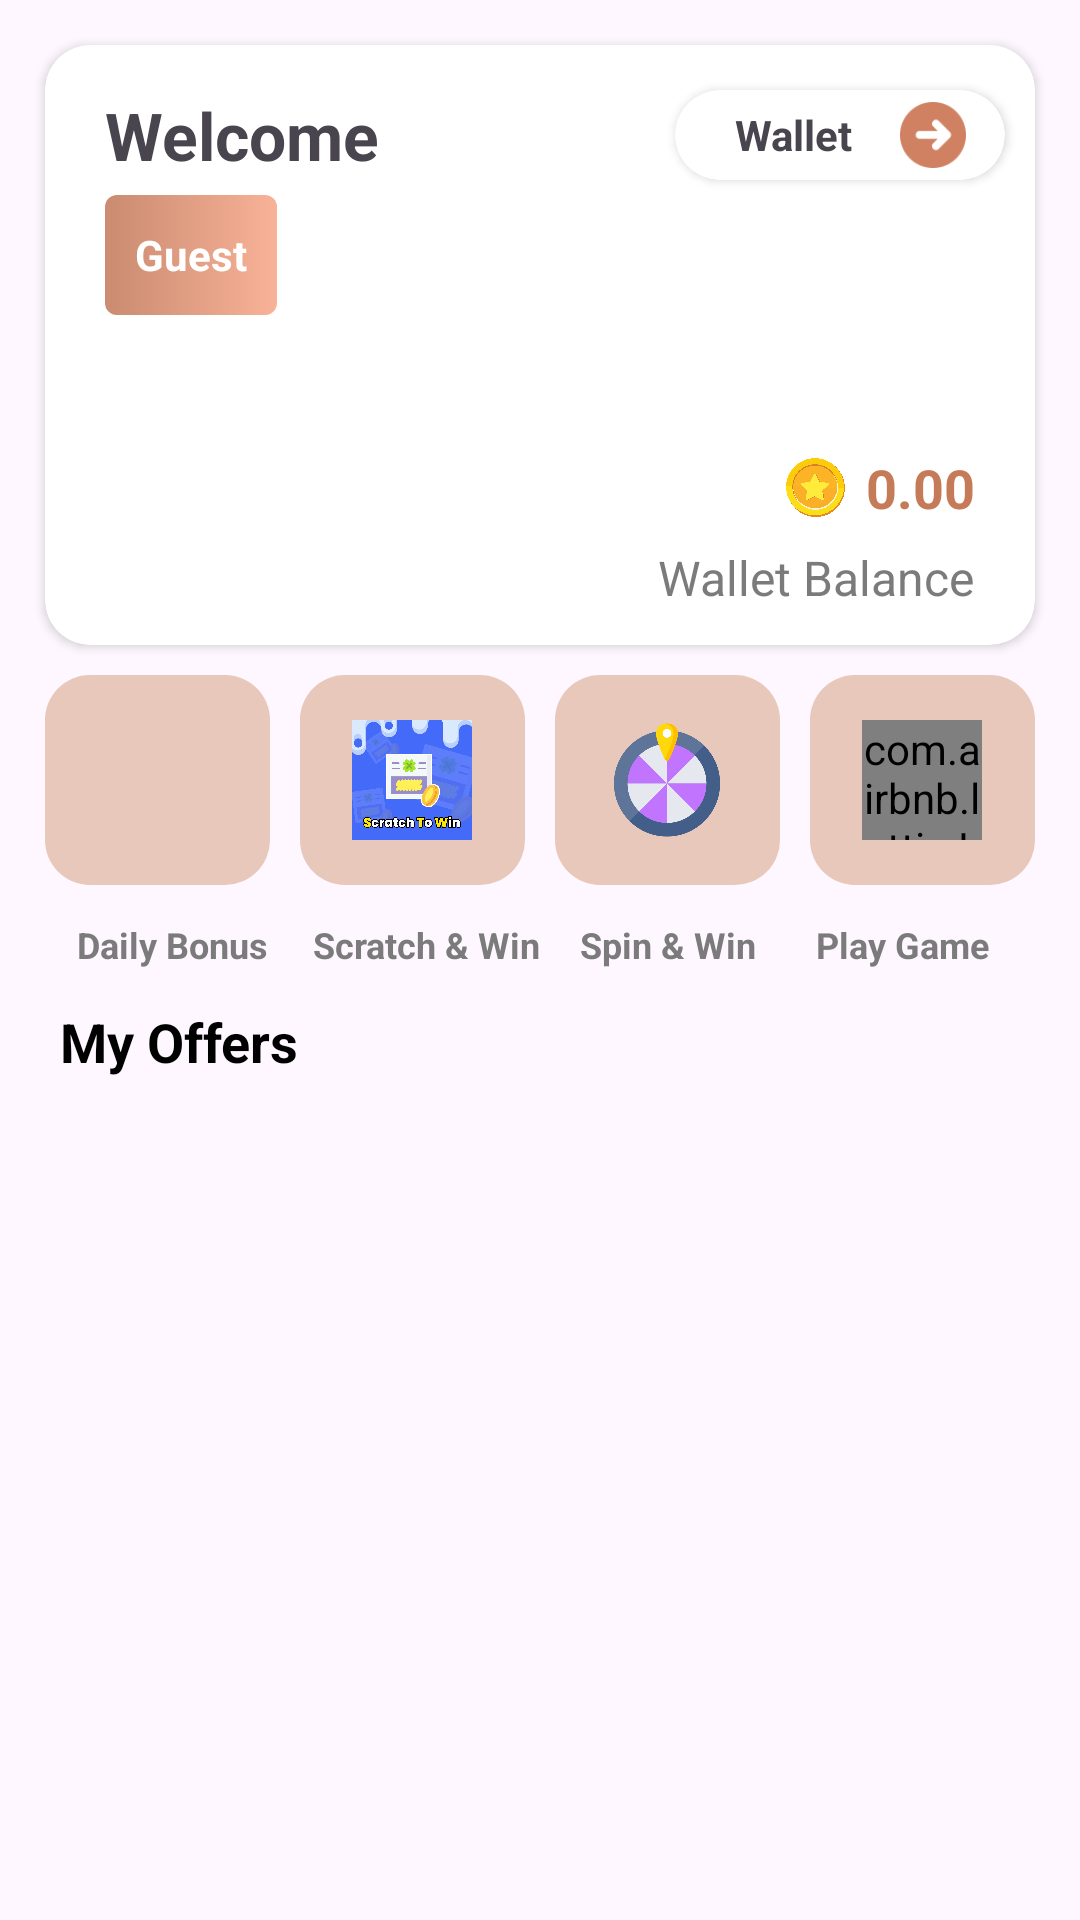

Icons on this 1080w x 1920h Android screen, each with its box as (x1, y1, x2, y2):
next: (900, 102, 966, 168)
spin wh: (614, 723, 720, 837)
